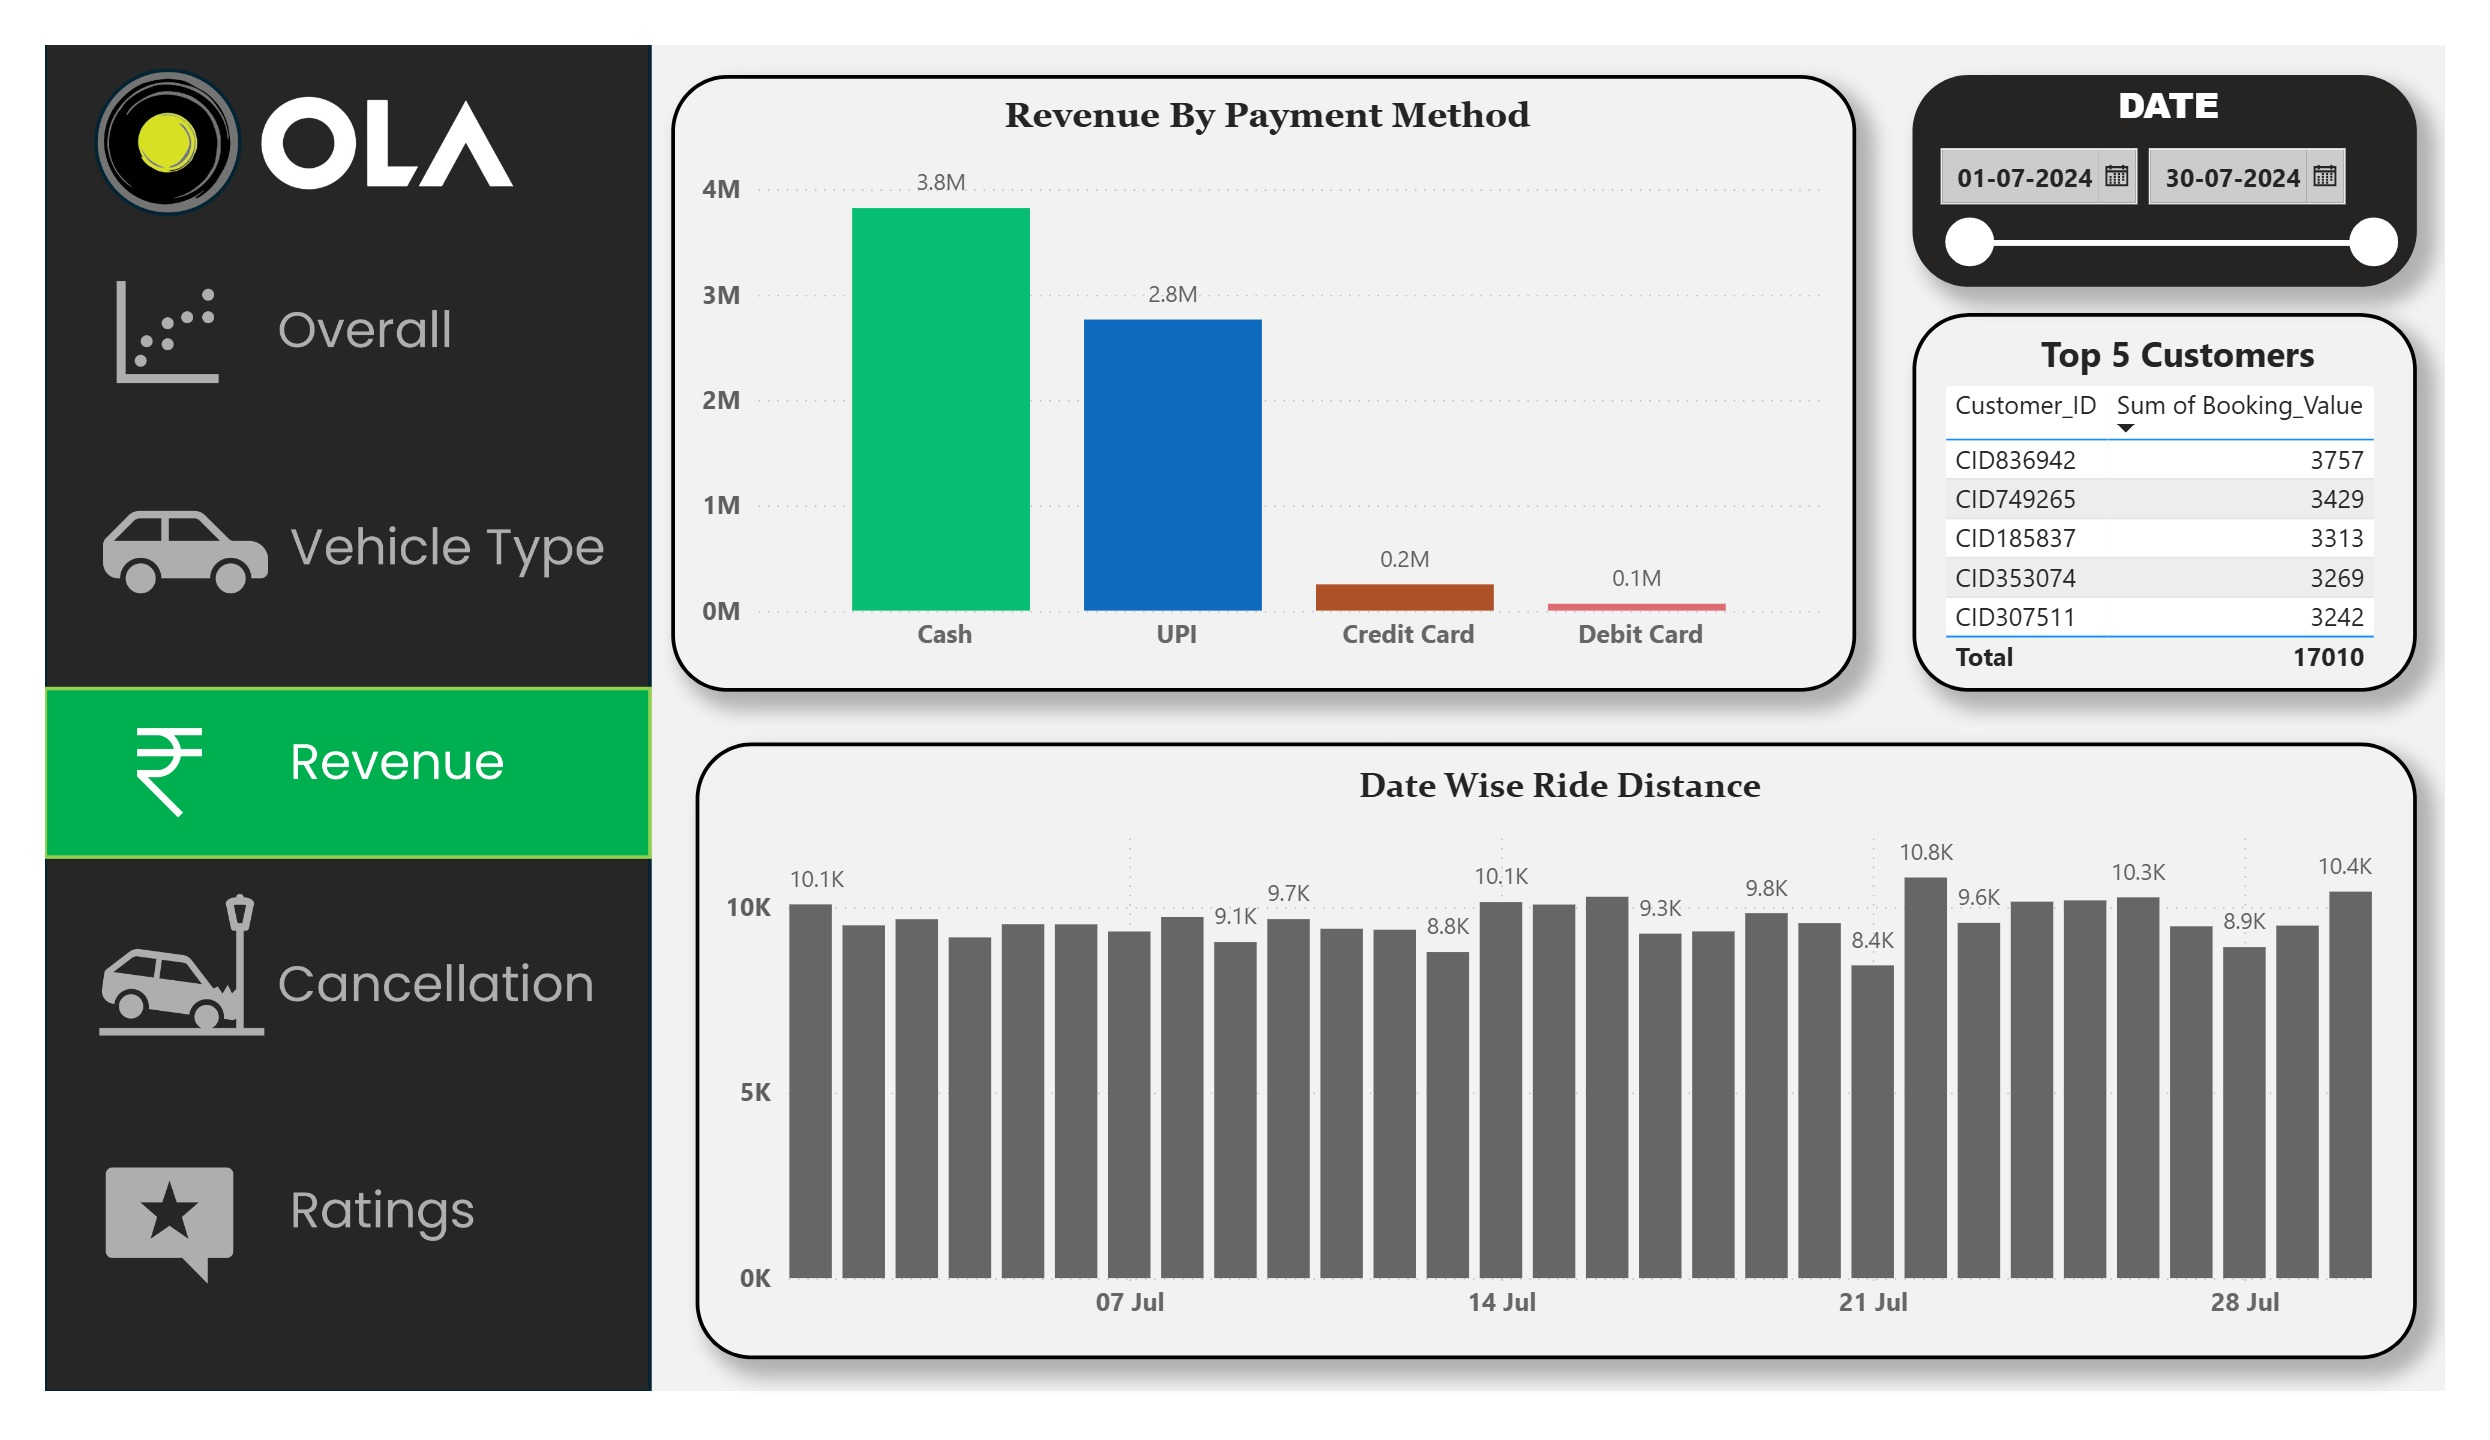

The page's visual inventory and layout, read from the dashboard file:
{"tool":"powerbi","page":{"name":"Revenue","canvas":[1280,720],"ordinal":2},"visuals":[{"type":"actionButton","box":[0,459.7,324.5,89.1],"z":0},{"type":"actionButton","box":[0,225.9,324.5,89.1],"z":1000},{"type":"actionButton","box":[10,469.7,324.5,89.1],"z":2000},{"type":"actionButton","box":[0,575.8,324.5,89.1],"z":3000},{"type":"actionButton","box":[0,108.2,324.5,89.1],"z":4000},{"type":"columnChart","title":"Revenue By Payment Method","fields":{"Y":["Sum(Bookings (2).Booking_Value)"],"Category":["Bookings (2).Payment_Method"]},"box":[334,15.9,631.5,329.3],"z":5000},{"type":"slicer","title":"DATE","fields":{"Values":["Bookings (2).Date"]},"box":[995.7,15.9,268.8,112.9],"z":6000},{"type":"columnChart","title":"Date Wise Ride Distance","fields":{"Y":["Sum(Bookings (2).Ride_Distance)"],"Category":["Bookings (2).Date"]},"box":[346.8,372.2,917.8,329.3],"z":7000},{"type":"tableEx","title":"Top 5 Customers","fields":{"Values":["Bookings (2).Customer_ID","Sum(Bookings (2).Booking_Value)"]},"box":[995.7,143.2,268.8,202],"z":8000}]}

Visuals, with their boxes in screenshot pixels (x1, y1, x2, y2), scaled from the page's 1280x720 canvas onto the 2490x1440 screenshot:
actionButton: bbox=(0, 919, 631, 1098)
actionButton: bbox=(0, 452, 631, 630)
actionButton: bbox=(19, 939, 651, 1118)
actionButton: bbox=(0, 1152, 631, 1330)
actionButton: bbox=(0, 216, 631, 395)
"Revenue By Payment Method" columnChart: bbox=(650, 32, 1878, 690)
"DATE" slicer: bbox=(1937, 32, 2460, 258)
"Date Wise Ride Distance" columnChart: bbox=(675, 744, 2460, 1403)
"Top 5 Customers" tableEx: bbox=(1937, 286, 2460, 690)
